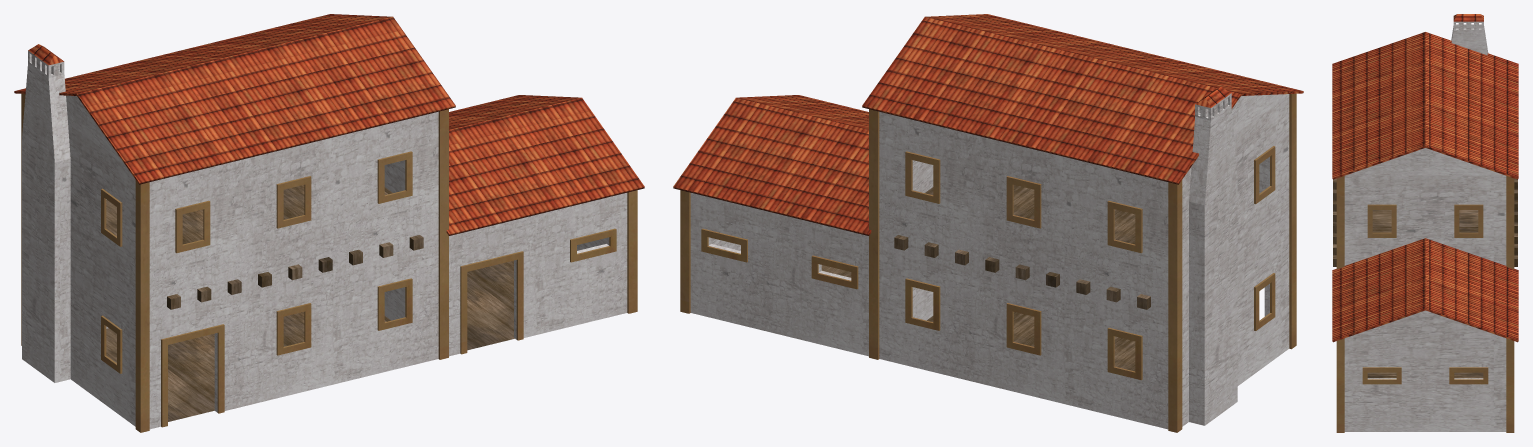
The model's file is house_1.glb.
3 renders of one model, left to right at view 1: azimuth 30°, elevation 25°; view 2: azimuth 150°, elevation 25°; view 3: azimuth 270°, elevation 25°, orthographic. The views are drawn at different scales.
Visible parts, largest first — view 1: Cube.001_0; view 2: Cube.001_0; view 3: Cube.001_0.
Part boxes in pixels (left/top/right/bottom): Cube.001_0: left=14, top=14, right=644, bottom=432; Cube.001_0: left=673, top=14, right=1303, bottom=432; Cube.001_0: left=1332, top=14, right=1518, bottom=432.
Bounding box in the file's own units: 6.36 × 3.78 × 2.69.
4 materials, 4 textured.
